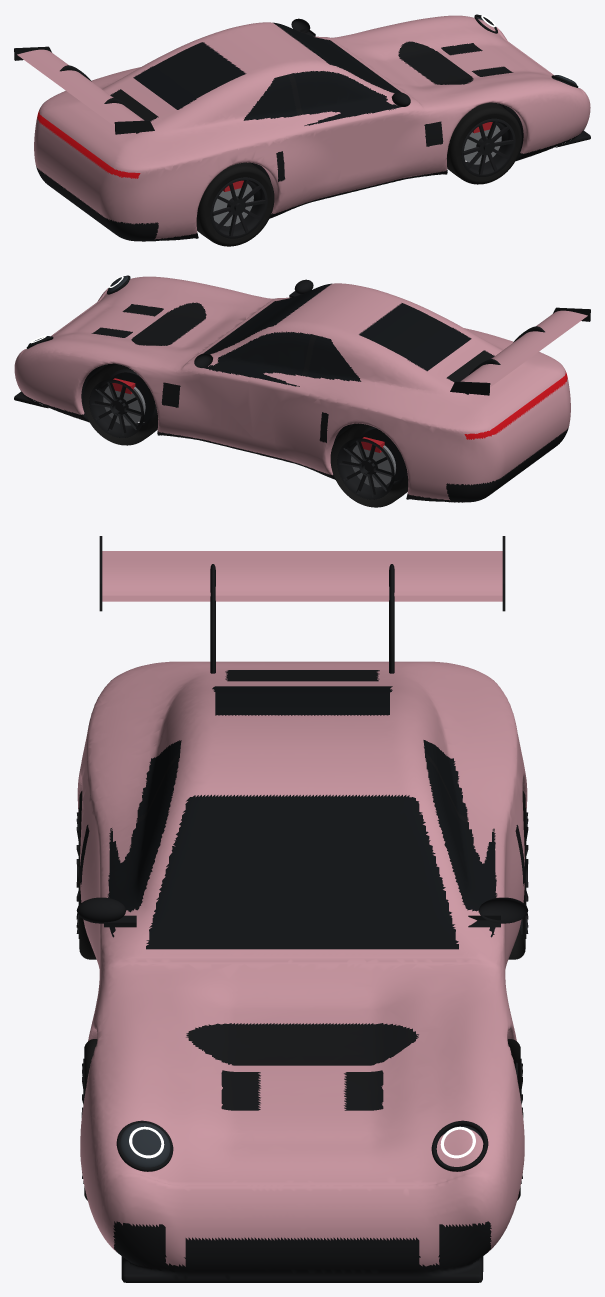
The picture shows the model from 3 angles, top to bottom: view 1: azimuth 30°, elevation 25°; view 2: azimuth 150°, elevation 25°; view 3: azimuth 270°, elevation 25°; orthographic projection. The views are drawn at different scales.
Visible parts, largest first — view 1: carroceria, piezas; view 2: carroceria, piezas; view 3: carroceria, piezas.
Boxes of the visible parts, <box> form: carroceria: <box>34,15,590,241</box>; piezas: <box>14,14,578,246</box>; carroceria: <box>14,276,570,502</box>; piezas: <box>26,275,590,507</box>; carroceria: <box>77,661,527,1282</box>; piezas: <box>76,536,528,1200</box>.
Bounding box in the file's own units: 4.75 × 1.41 × 1.92.
